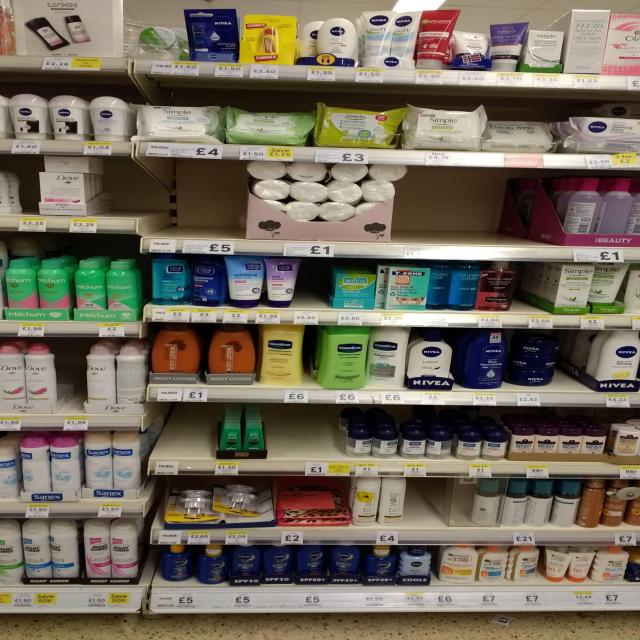void: (409, 169, 500, 241), (163, 157, 236, 235), (266, 407, 336, 456), (160, 404, 219, 457), (105, 158, 141, 218), (410, 476, 441, 526)
